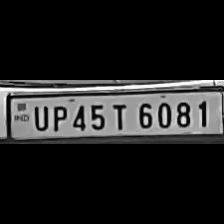0: (155, 99, 173, 127)
1: (194, 98, 212, 128)
4: (68, 102, 86, 131)
5: (86, 100, 108, 130)
6: (132, 100, 154, 128)
8: (172, 98, 192, 128)
P: (48, 103, 68, 132)
T: (108, 100, 130, 130)
U: (29, 103, 49, 132)
